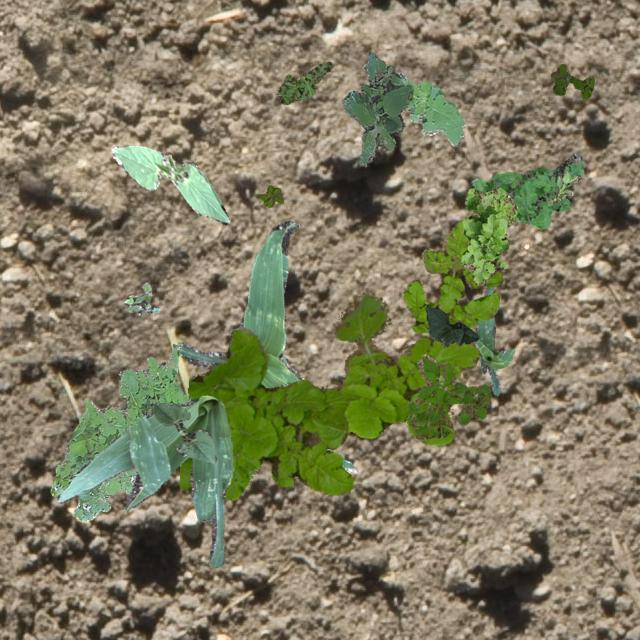crop: (179, 219, 355, 472), (56, 394, 232, 566), (110, 144, 228, 223), (472, 286, 514, 394), (150, 402, 216, 462), (424, 304, 478, 346)
weed: (177, 292, 478, 498), (49, 340, 190, 520), (402, 220, 502, 332), (470, 152, 582, 228), (342, 51, 412, 166), (406, 352, 490, 438), (461, 186, 516, 284), (397, 72, 465, 144), (276, 60, 332, 104), (550, 64, 592, 98), (122, 282, 158, 316), (546, 170, 576, 204), (258, 184, 282, 207)
